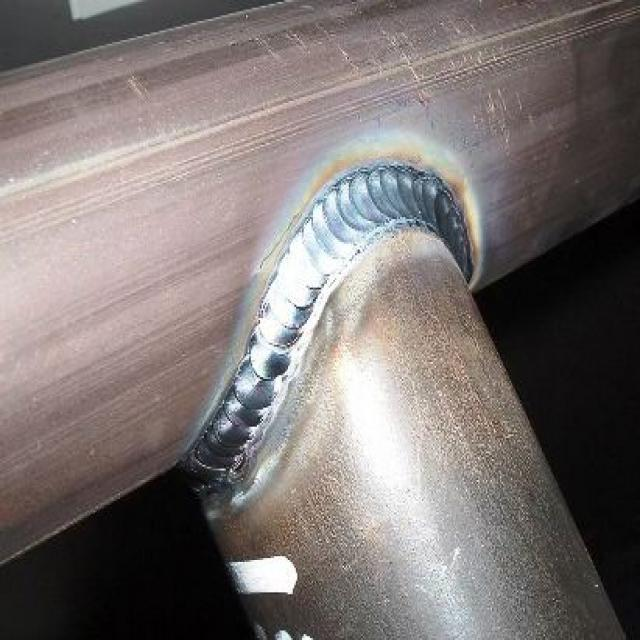Good Weld: (193, 166, 280, 490), (293, 172, 457, 252)
